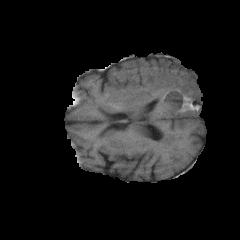glioma: (109, 61, 201, 143)
